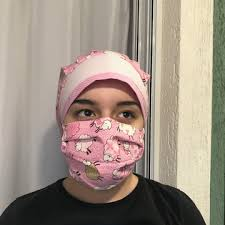with_mask_and_cap: (59, 52, 144, 189)
